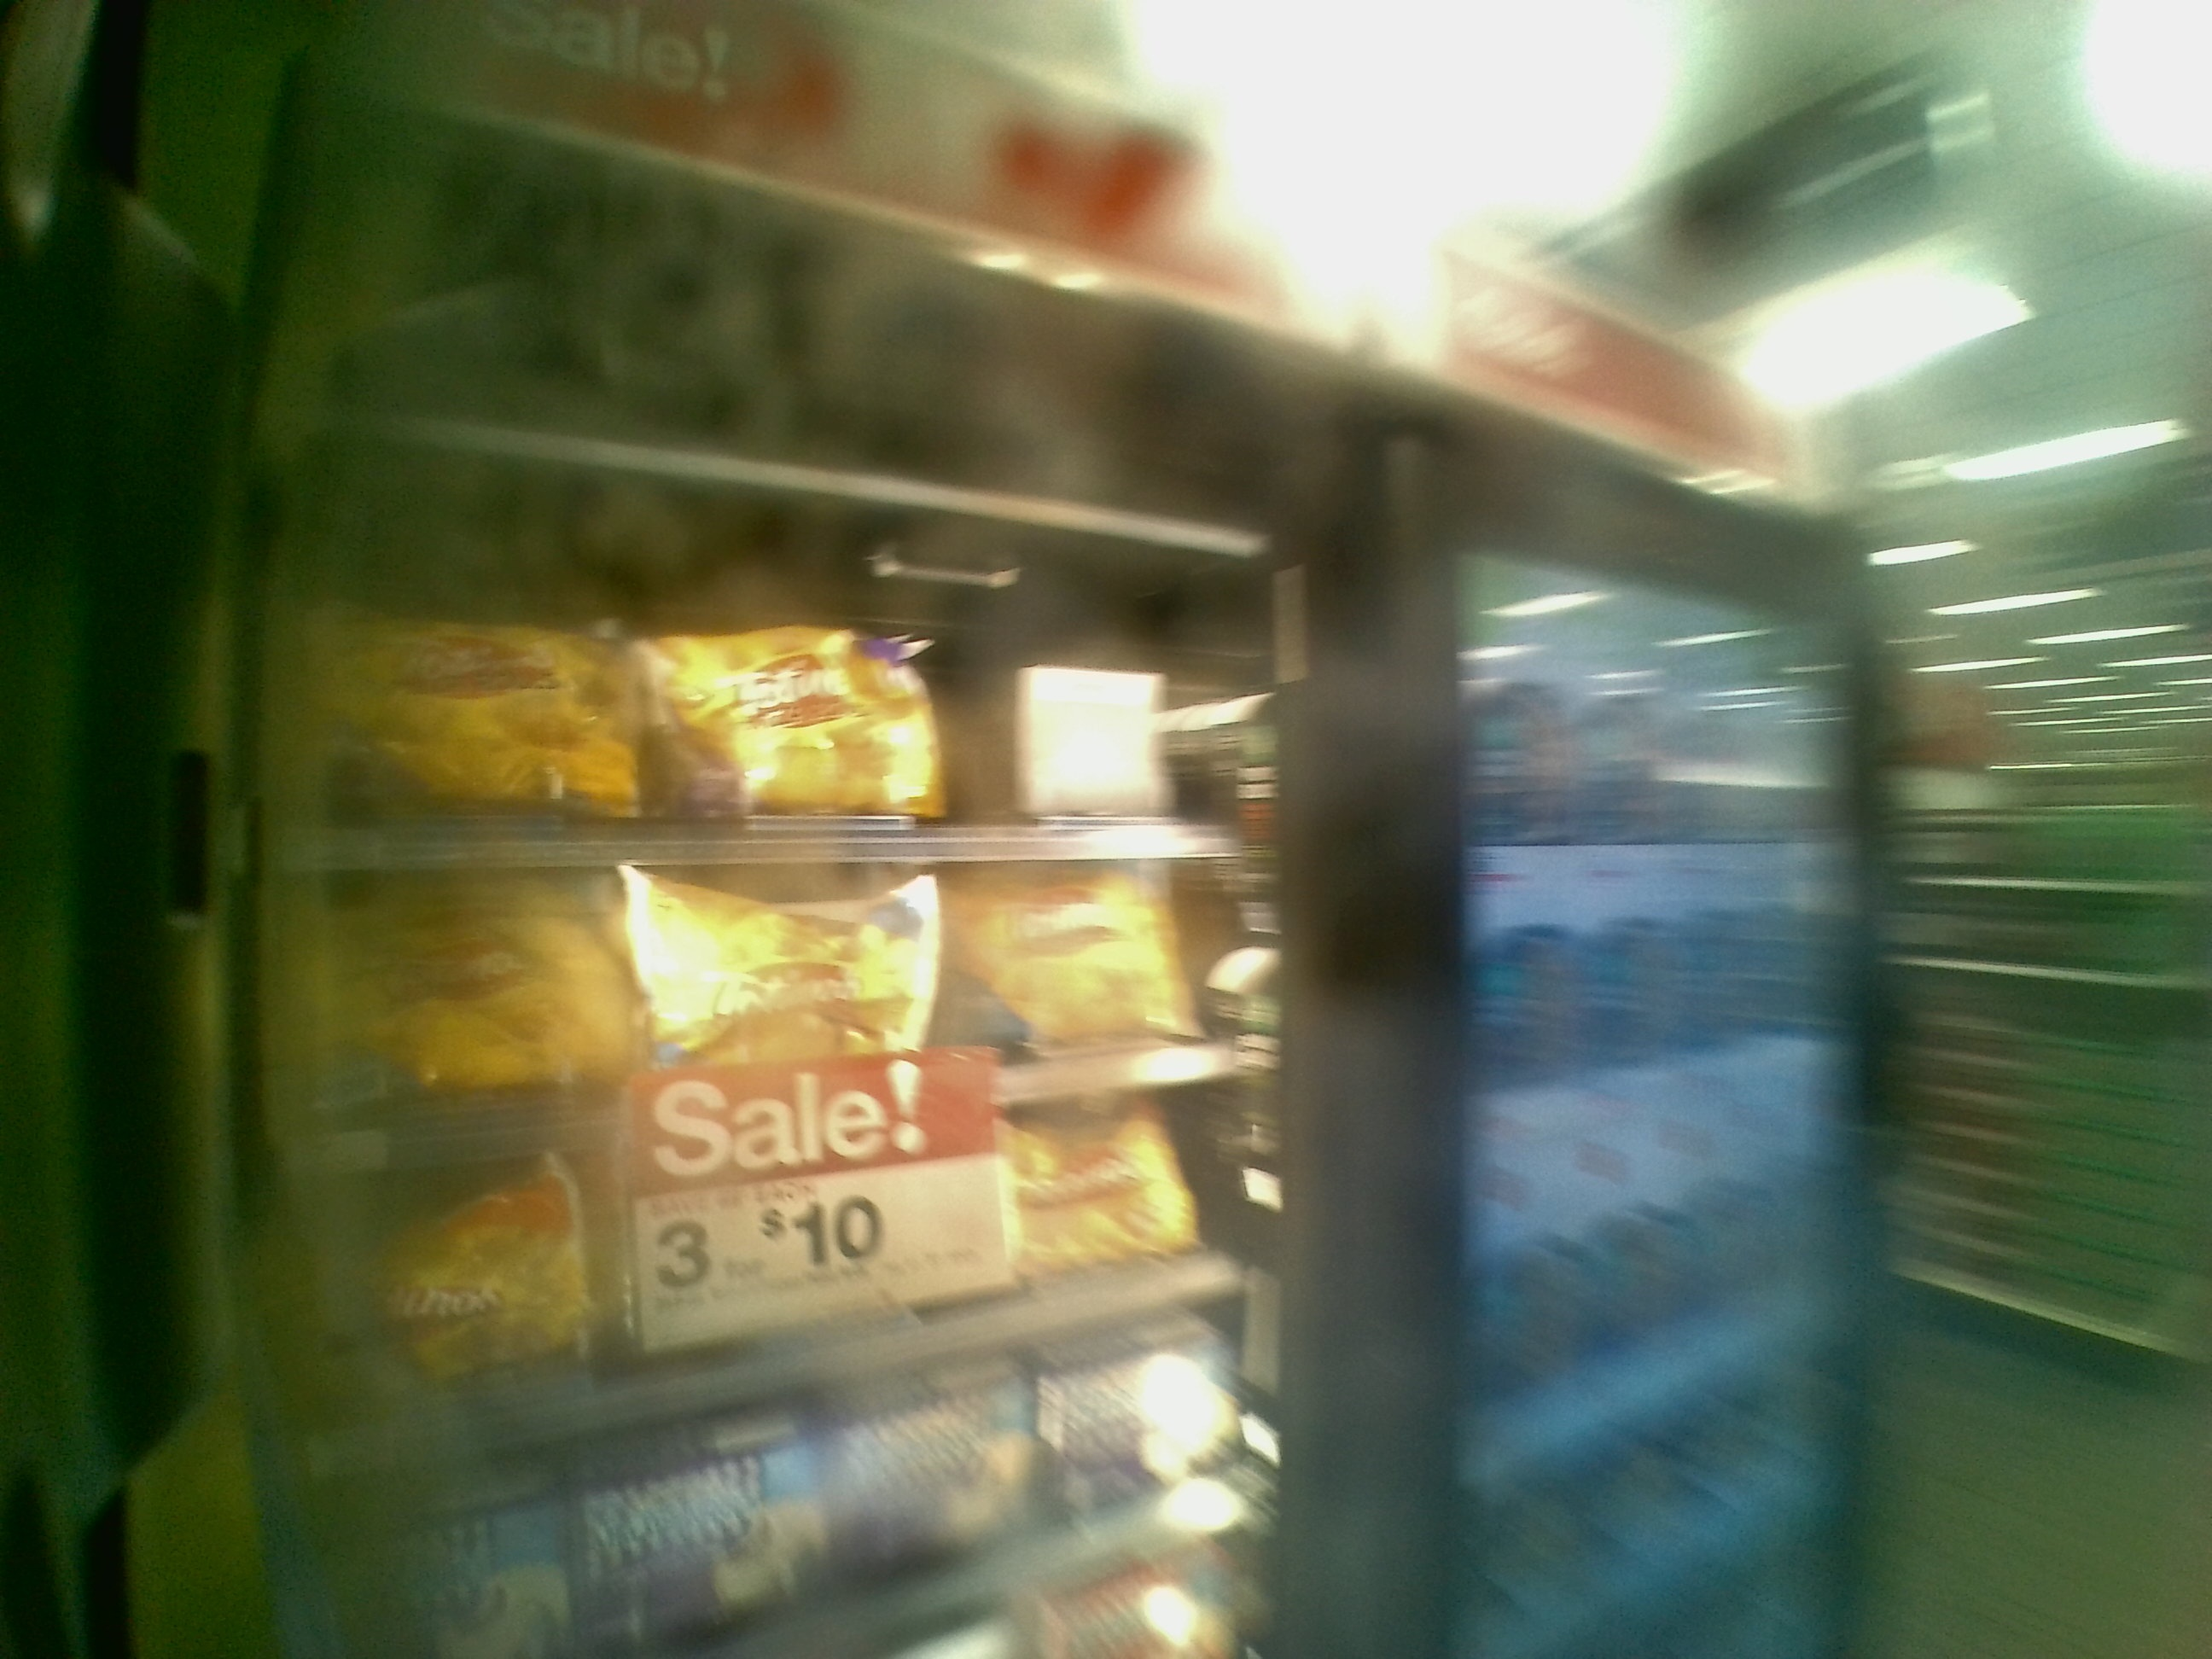shelf: (280, 465, 1266, 866)
